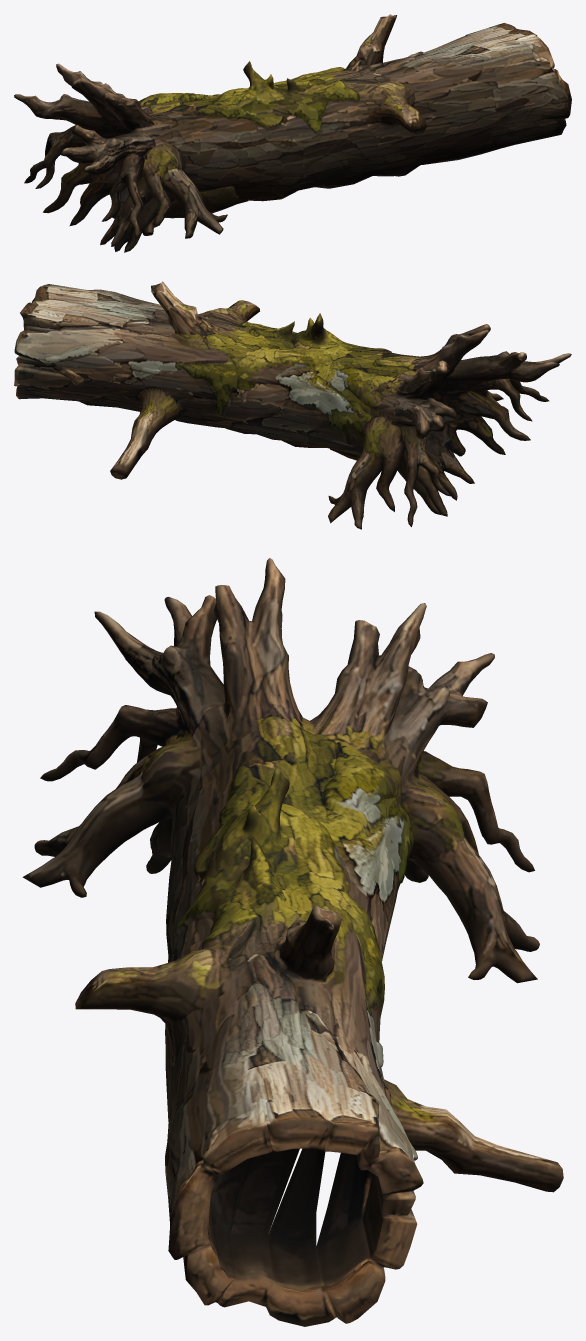
File: act1_kit_v1_hollow_trunk.glb
3 renders of one model, top to bottom at view 1: azimuth 30°, elevation 25°; view 2: azimuth 150°, elevation 25°; view 3: azimuth 270°, elevation 25°, orthographic. The views are drawn at different scales.
Parts seen in each view (by area): view 1: act1_kit_v1_hollow_trunk; view 2: act1_kit_v1_hollow_trunk; view 3: act1_kit_v1_hollow_trunk.
Boxes of the visible parts, x1,y1,x2,y2 form: act1_kit_v1_hollow_trunk: [14, 14, 571, 252]; act1_kit_v1_hollow_trunk: [14, 281, 571, 529]; act1_kit_v1_hollow_trunk: [22, 558, 563, 1326].
Size of the model in its own units: 1 by 0.3278 by 0.4672.
1 material, 1 textured.
